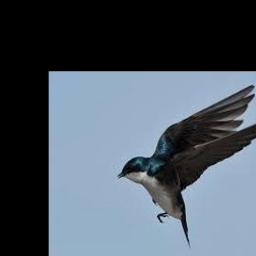Swallow: (119, 84, 256, 248)
